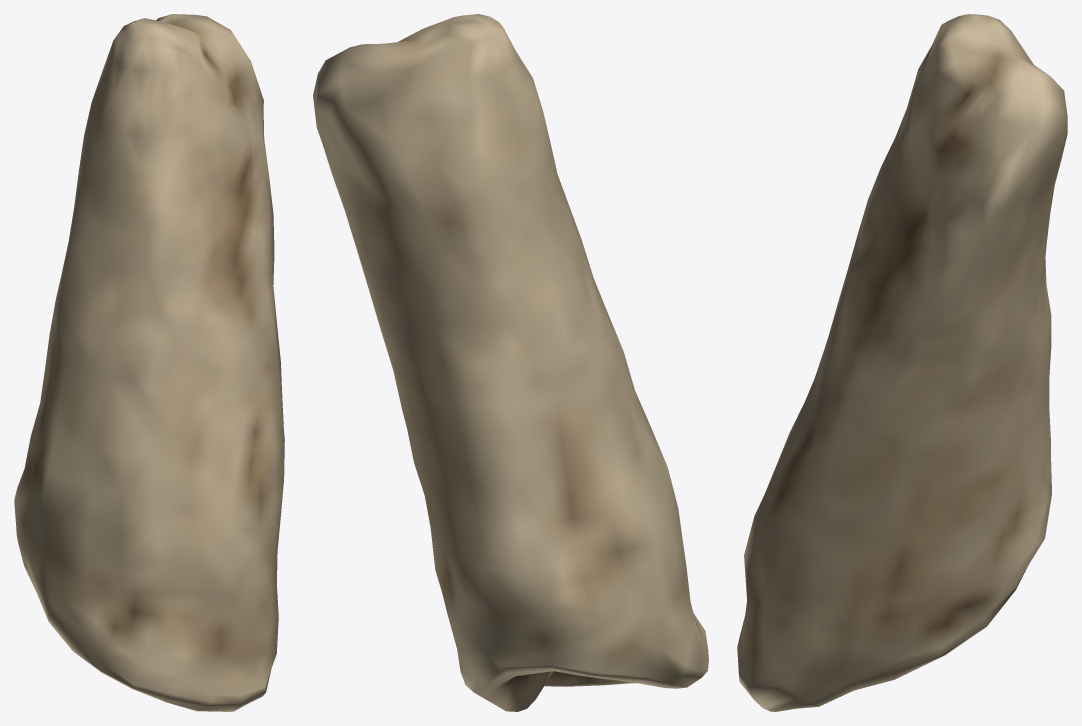
The model's file is Upper_Incisor1.glb.
3 views of the same model, side by side, from view 1: azimuth 30°, elevation 25°; view 2: azimuth 150°, elevation 25°; view 3: azimuth 270°, elevation 25° (orthographic). The views are drawn at different scales.
Visible parts, largest first — view 1: Group7916_Mesh.075; view 2: Group7916_Mesh.075; view 3: Group7916_Mesh.075.
Boxes of the visible parts, left/top/right/bottom form: Group7916_Mesh.075: left=14, top=14, right=284, bottom=711; Group7916_Mesh.075: left=313, top=14, right=708, bottom=711; Group7916_Mesh.075: left=737, top=14, right=1067, bottom=711.
Size of the model in its own units: 0.0159 by 0.0362 by 0.0158.
1 material, 1 textured.
